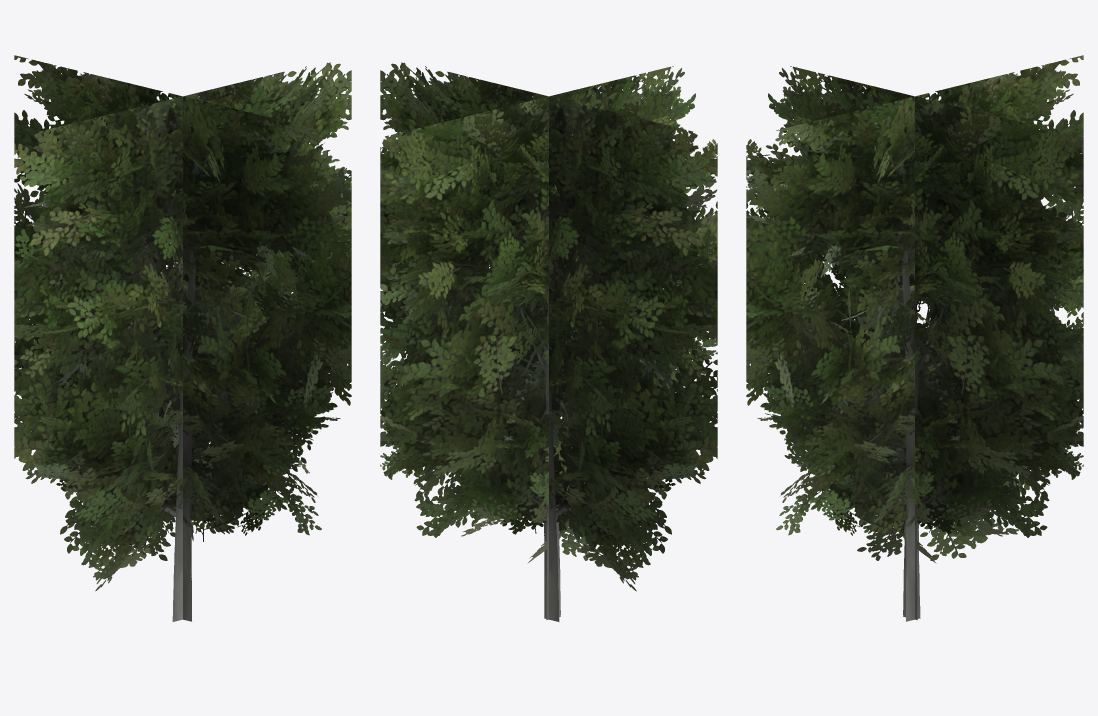
Rendered from buk_mlady_daleko.glb.
The picture shows the model from 3 angles, left to right: view 1: azimuth 30°, elevation 25°; view 2: azimuth 150°, elevation 25°; view 3: azimuth 270°, elevation 25°; orthographic projection.
Visible parts, largest first — view 1: buk_mlady_daleko; view 2: buk_mlady_daleko; view 3: buk_mlady_daleko.
Part boxes in pixels (x1,y1,x2,y2): buk_mlady_daleko: (14,55,351,621); buk_mlady_daleko: (380,62,717,621); buk_mlady_daleko: (746,55,1083,621).
Bounding box in the file's own units: 5.49 × 8.13 × 4.75.
Materials: 3 (3 with a texture image).
